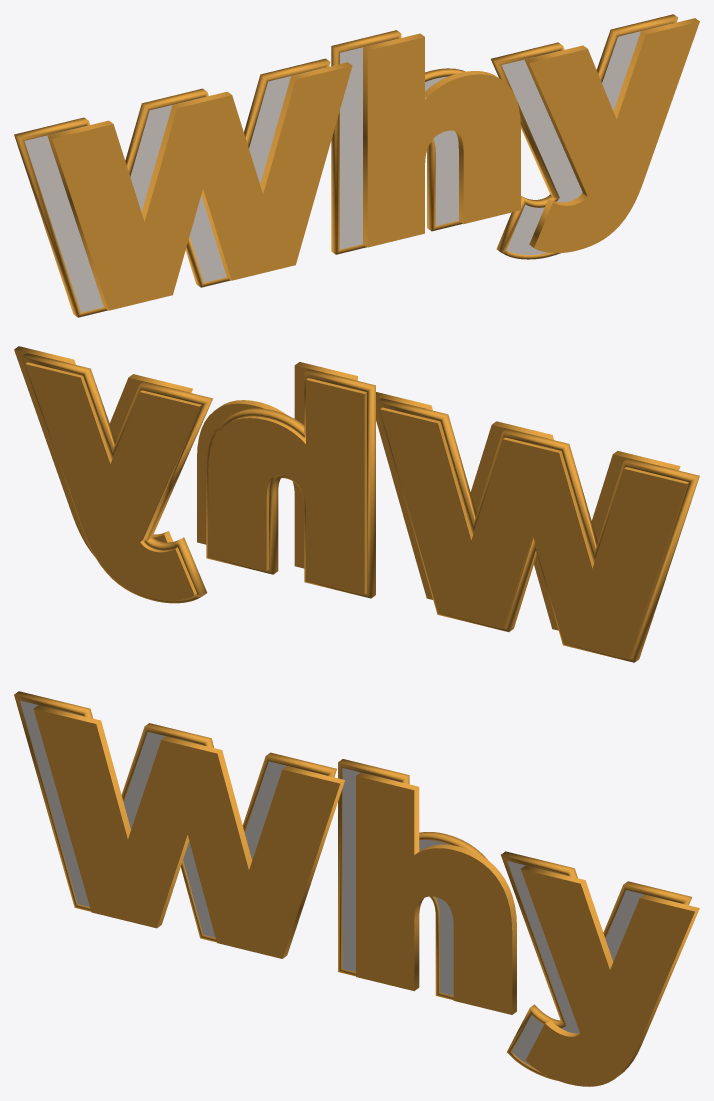
The model's file is why.glb.
3 views of the same model, one above another, from view 1: azimuth 30°, elevation 25°; view 2: azimuth 150°, elevation 25°; view 3: azimuth 330°, elevation 25° (orthographic). The views are drawn at different scales.
Visible parts, largest first — view 1: why-yellow, why-white, why-border; view 2: why-border, why-yellow; view 3: why-yellow, why-white, why-border.
Part boxes in pixels (box(x1,y1,x2,y2)): why-yellow: box(47, 18, 699, 310); why-white: box(24, 24, 669, 312); why-border: box(14, 14, 678, 317); why-border: box(21, 353, 699, 662); why-yellow: box(14, 346, 680, 630); why-yellow: box(33, 705, 699, 1086); why-white: box(20, 700, 680, 1067); why-border: box(14, 691, 692, 1080).
Bounding box in the file's own units: 1.64 × 0.6029 × 0.06.
